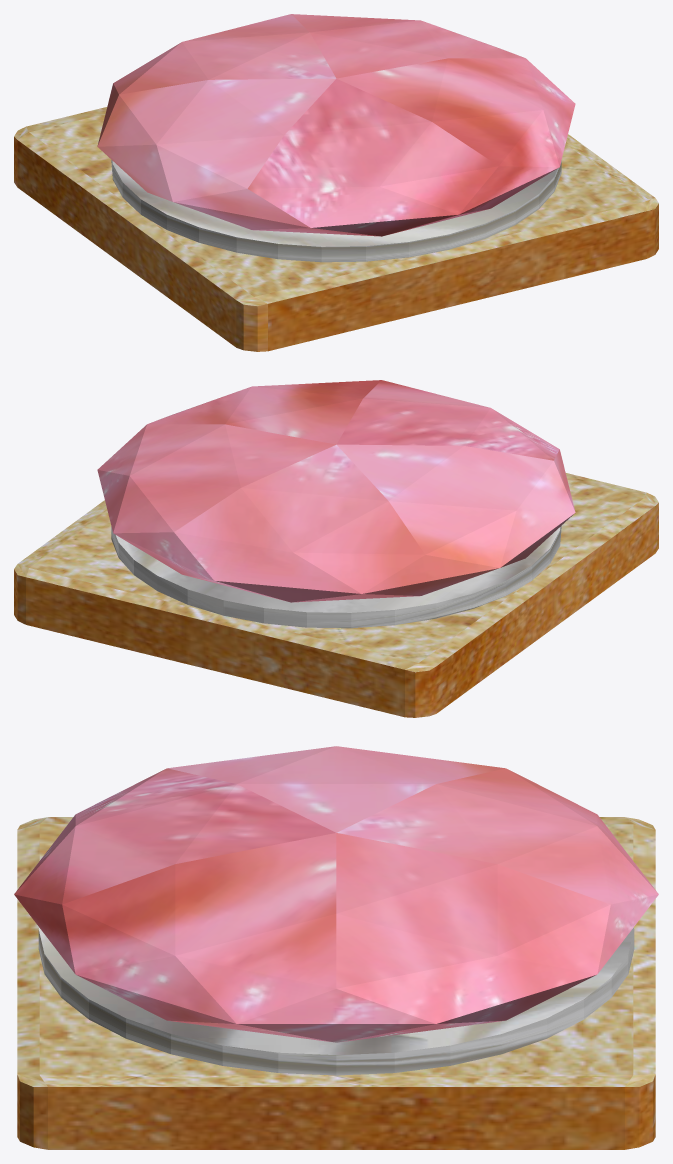
The model's file is las-maizes.fbx.
3 views of the same model, one above another, from view 1: azimuth 30°, elevation 25°; view 2: azimuth 150°, elevation 25°; view 3: azimuth 270°, elevation 25° (orthographic). The views are drawn at different scales.
Parts seen in each view (by area): view 1: Icosphere, Cube.001, Cube, Cylinder; view 2: Icosphere, Cube.001, Cube, Cylinder; view 3: Icosphere, Cube.001, Cube, Cylinder.
Boxes of the visible parts, box(x1,y1,x2,y2) form: Icosphere: box(97, 14, 575, 236); Cube.001: box(14, 137, 658, 351); Cube: box(14, 107, 658, 306); Cylinder: box(111, 160, 561, 290); Icosphere: box(97, 380, 575, 602); Cube.001: box(14, 503, 658, 717); Cube: box(14, 473, 658, 672); Cylinder: box(111, 526, 561, 656); Icosphere: box(14, 746, 658, 1042); Cube.001: box(17, 1075, 655, 1149); Cube: box(17, 817, 655, 1086); Cylinder: box(38, 927, 634, 1075).
Size of the model in its own units: 198 by 63.04 by 200.
